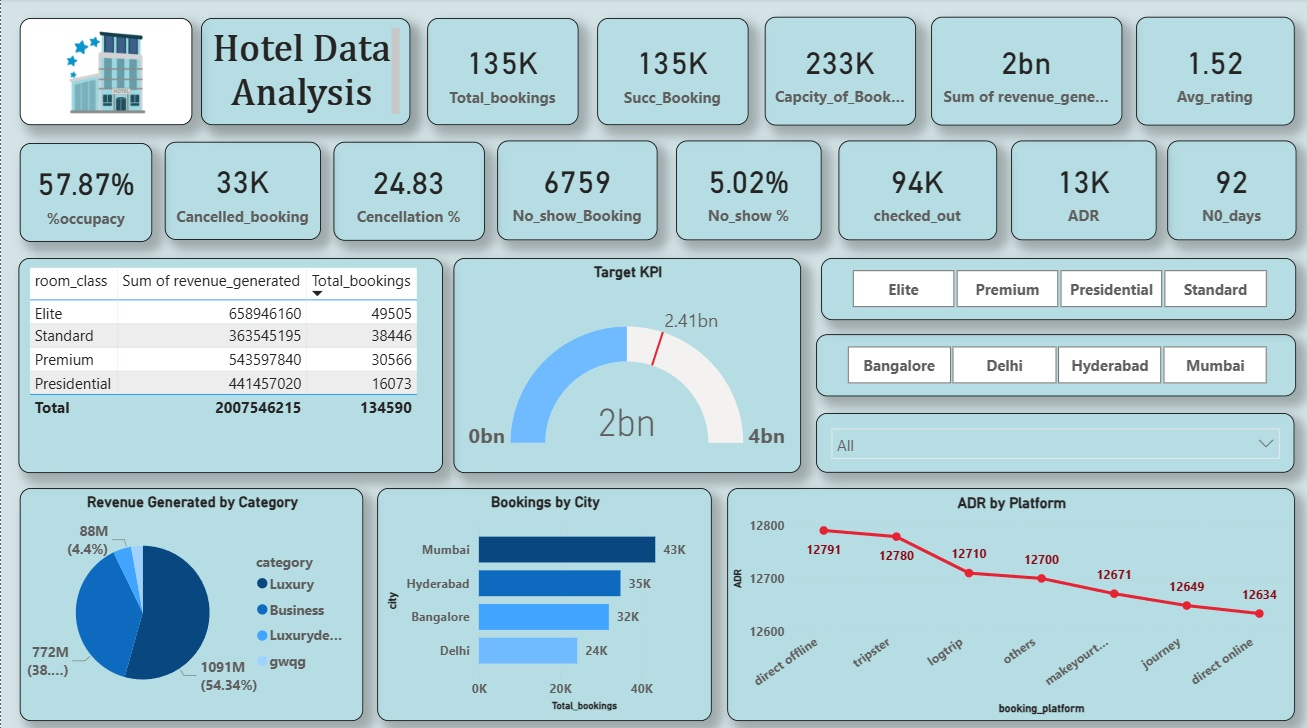

Layout of this report page (visuals, bound fields, positions):
{"tool":"powerbi","page":{"name":"Page 1","canvas":[1280,720],"ordinal":0},"visuals":[{"type":"card","fields":{"Values":["New_measures.Total_bookings"]},"box":[416.5,19.6,147.7,105],"z":0},{"type":"card","fields":{"Values":["New_measures.Succ_Booking"]},"box":[583.8,19.6,147.7,105],"z":1000},{"type":"card","fields":{"Values":["New_measures.No_show_Booking"]},"box":[485.9,138.8,157,97.9],"z":2000},{"type":"card","fields":{"Values":["New_measures.No_show %"]},"box":[660.3,138.8,142.4,97.9],"z":3000},{"type":"card","fields":{"Values":["New_measures.Avg_rating"]},"box":[1110.6,17.8,154.8,106.8],"z":4000},{"type":"card","fields":{"Values":["New_measures.N0_days"]},"box":[1140.8,138.8,126.4,97.9],"z":5000},{"type":"card","fields":{"Values":["New_measures.Cencellation %"]},"box":[325.7,140.6,147.7,97],"z":6000},{"type":"card","fields":{"Values":["New_measures.Capcity_of_Bookings"]},"box":[747.5,17.8,147.7,106.8],"z":7000},{"type":"card","fields":{"Values":["New_measures.Cancelled_booking"]},"box":[160.2,140.6,153.1,96.1],"z":8000},{"type":"card","fields":{"Values":["New_measures.ADR"]},"box":[987.8,138.8,142.4,97.9],"z":9000},{"type":"card","fields":{"Values":["New_measures.checked_out"]},"box":[818.7,138.8,154.8,97.9],"z":10000},{"type":"card","fields":{"Values":["New_measures.%occupacy"]},"box":[17.8,142.4,129.9,97],"z":11000},{"type":"card","fields":{"Values":["Sum(Fact_booking.revenue_generated)"]},"box":[909.5,17.8,186.9,106.8],"z":12000},{"type":"slicer","fields":{"Values":["Hotels.city"]},"box":[797.3,329.3,469.9,60.5],"z":13000},{"type":"slicer","fields":{"Values":["rooms.room_class"]},"box":[802.7,254.5,464.5,60.5],"z":14000},{"type":"slicer","fields":{"Values":["Date.WN"]},"box":[797.3,405.8,468.1,58.7],"z":15000},{"type":"lineChart","title":"ADR by Platform","fields":{"Y":["New_measures.ADR"],"Category":["Fact_booking.booking_platform"]},"box":[710.1,478.8,555.3,227.8],"z":16000},{"type":"pieChart","title":"Revenue Generated by Category","fields":{"Y":["Sum(Fact_booking.revenue_generated)"],"Category":["Hotels.category"]},"box":[17.8,478.8,336.4,227.8],"z":17000},{"type":"barChart","title":"Bookings by City","fields":{"Category":["Hotels.city"],"Y":["New_measures.Total_bookings"]},"box":[368.4,478.8,327.5,227.8],"z":18000},{"type":"tableEx","fields":{"Values":["rooms.room_class","Sum(Fact_booking.revenue_generated)","New_measures.Total_bookings"]},"box":[17.3,253.9,415.5,210.6],"z":19000},{"type":"image","box":[17.8,19.6,169.1,105],"z":20000},{"type":"gauge","title":"Target KPI","fields":{"Y":["Sum(Fact_booking.revenue_generated)"],"TargetValue":["All_measures.Target_revenue"]},"box":[443.2,254.5,339.9,210],"z":21000},{"type":"textbox","box":[195.8,19.6,204.7,105],"z":22000}]}

Visuals, with their boxes in screenshot pixels (x1, y1, x2, y2), scaled from the page's 1280x720 canvas onto the 1307x728 screenshot:
card - New_measures.Total_bookings: [left=425, top=20, right=576, bottom=126]
card - New_measures.Succ_Booking: [left=596, top=20, right=747, bottom=126]
card - New_measures.No_show_Booking: [left=496, top=140, right=656, bottom=239]
card - New_measures.No_show %: [left=674, top=140, right=820, bottom=239]
card - New_measures.Avg_rating: [left=1134, top=18, right=1292, bottom=126]
card - New_measures.N0_days: [left=1165, top=140, right=1294, bottom=239]
card - New_measures.Cencellation %: [left=333, top=142, right=483, bottom=240]
card - New_measures.Capcity_of_Bookings: [left=763, top=18, right=914, bottom=126]
card - New_measures.Cancelled_booking: [left=164, top=142, right=320, bottom=239]
card - New_measures.ADR: [left=1009, top=140, right=1154, bottom=239]
card - New_measures.checked_out: [left=836, top=140, right=994, bottom=239]
card - New_measures.%occupacy: [left=18, top=144, right=151, bottom=242]
card - Sum(Fact_booking.revenue_generated): [left=929, top=18, right=1120, bottom=126]
slicer - Hotels.city: [left=814, top=333, right=1294, bottom=394]
slicer - rooms.room_class: [left=820, top=257, right=1294, bottom=318]
slicer - Date.WN: [left=814, top=410, right=1292, bottom=470]
"ADR by Platform" lineChart: [left=725, top=484, right=1292, bottom=714]
"Revenue Generated by Category" pieChart: [left=18, top=484, right=362, bottom=714]
"Bookings by City" barChart: [left=376, top=484, right=711, bottom=714]
tableEx - rooms.room_class x Sum(Fact_booking.revenue_generated): [left=18, top=257, right=442, bottom=470]
image: [left=18, top=20, right=191, bottom=126]
"Target KPI" gauge: [left=453, top=257, right=800, bottom=470]
textbox: [left=200, top=20, right=409, bottom=126]
